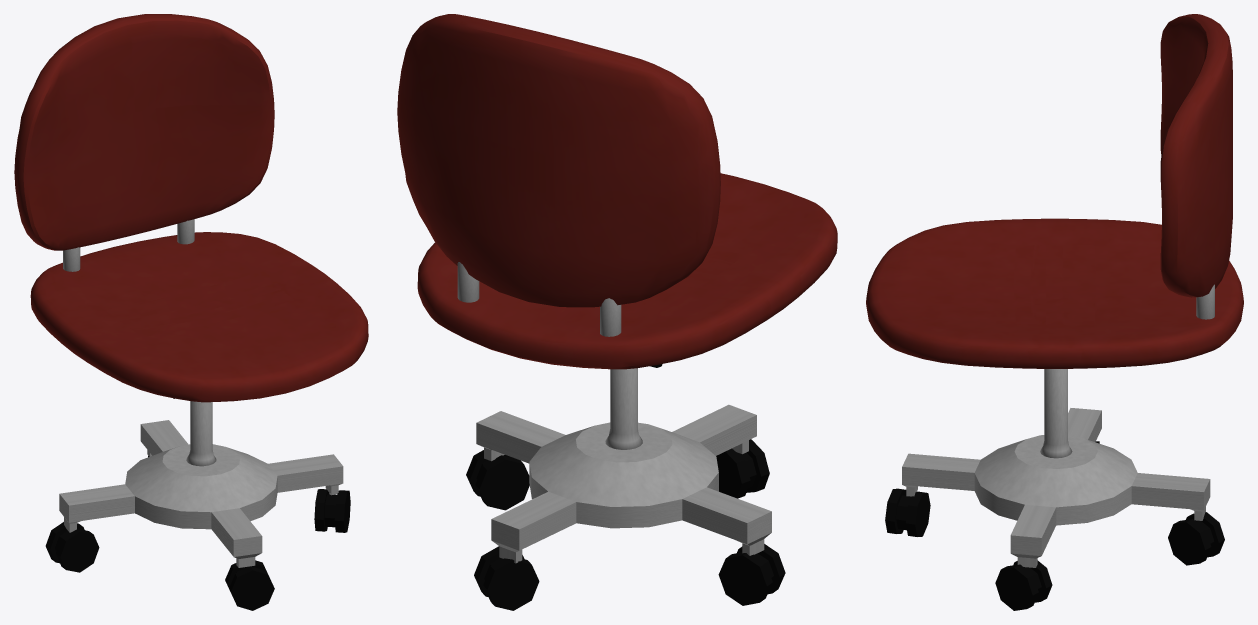
File: chair.glb
3 renders of one model, left to right at view 1: azimuth 30°, elevation 25°; view 2: azimuth 150°, elevation 25°; view 3: azimuth 270°, elevation 25°, orthographic. The views are drawn at different scales.
Visible parts, largest first — view 1: back, Cube, desk-legs.003, Cylinder, Cylinder.003, desk-legs.001, Cylinder.002, desk-legs.002; view 2: back, Cube, desk-legs.003, Cylinder, Cylinder.001, Cylinder.002, desk-legs.001, Cylinder.003, desk-legs.002; view 3: Cube, back, desk-legs.003, desk-legs.001, Cylinder.001, Cylinder.002, Cylinder.003.
Boxes of the visible parts, x1=… form: back: x1=14, y1=14, x2=274, y2=250; Cube: x1=30, y1=232, x2=368, y2=402; desk-legs.003: x1=59, y1=420, x2=343, y2=567; Cylinder: x1=45, y1=522, x2=99, y2=572; Cylinder.003: x1=225, y1=560, x2=274, y2=610; desk-legs.001: x1=186, y1=401, x2=216, y2=466; Cylinder.002: x1=314, y1=489, x2=350, y2=532; desk-legs.002: x1=63, y1=219, x2=194, y2=271; back: x1=397, y1=14, x2=720, y2=307; Cube: x1=417, y1=173, x2=837, y2=369; desk-legs.003: x1=476, y1=404, x2=771, y2=563; Cylinder: x1=718, y1=544, x2=785, y2=605; Cylinder.001: x1=474, y1=546, x2=539, y2=610; Cylinder.002: x1=466, y1=450, x2=529, y2=510; desk-legs.001: x1=605, y1=368, x2=642, y2=449; Cylinder.003: x1=716, y1=439, x2=769, y2=498; desk-legs.002: x1=457, y1=262, x2=621, y2=336; Cube: x1=866, y1=218, x2=1243, y2=368; back: x1=1160, y1=14, x2=1232, y2=297; desk-legs.003: x1=902, y1=408, x2=1210, y2=567; desk-legs.001: x1=1040, y1=369, x2=1072, y2=458; Cylinder.001: x1=1168, y1=512, x2=1224, y2=565; Cylinder.002: x1=995, y1=560, x2=1052, y2=610; Cylinder.003: x1=885, y1=488, x2=930, y2=536.
Size of the model in its own units: 1.01 by 1.68 by 1.14.
3 materials, 2 textured.
